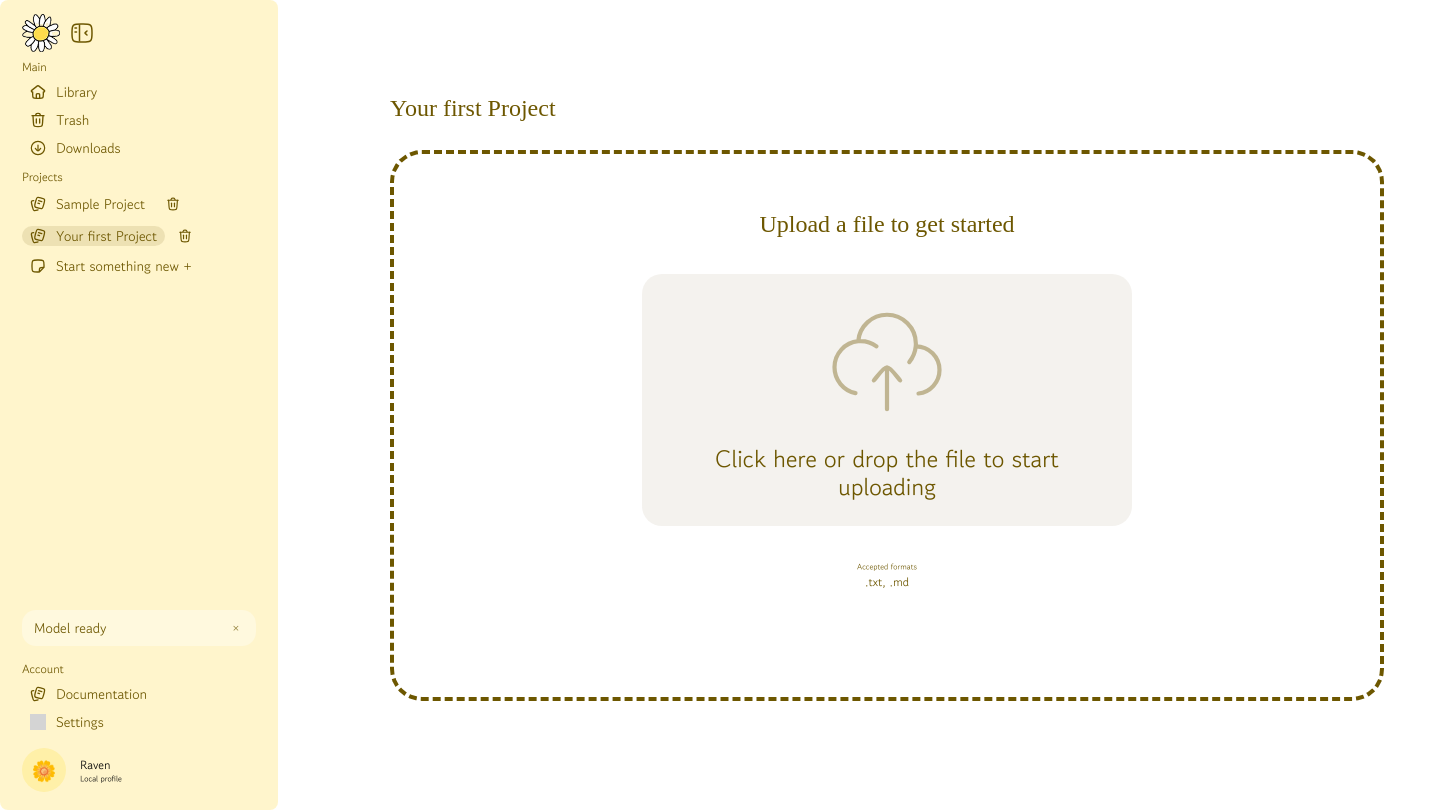
Test: Upload screen › switches to a different project when another project is clicked in the navbar
Expected: the heading "Your first Project" is shown, x1=390 y1=94 x2=556 y2=122
Click the link "Sample Project". click: click(88, 204)
box: x1=22 y1=194 x2=153 y2=214
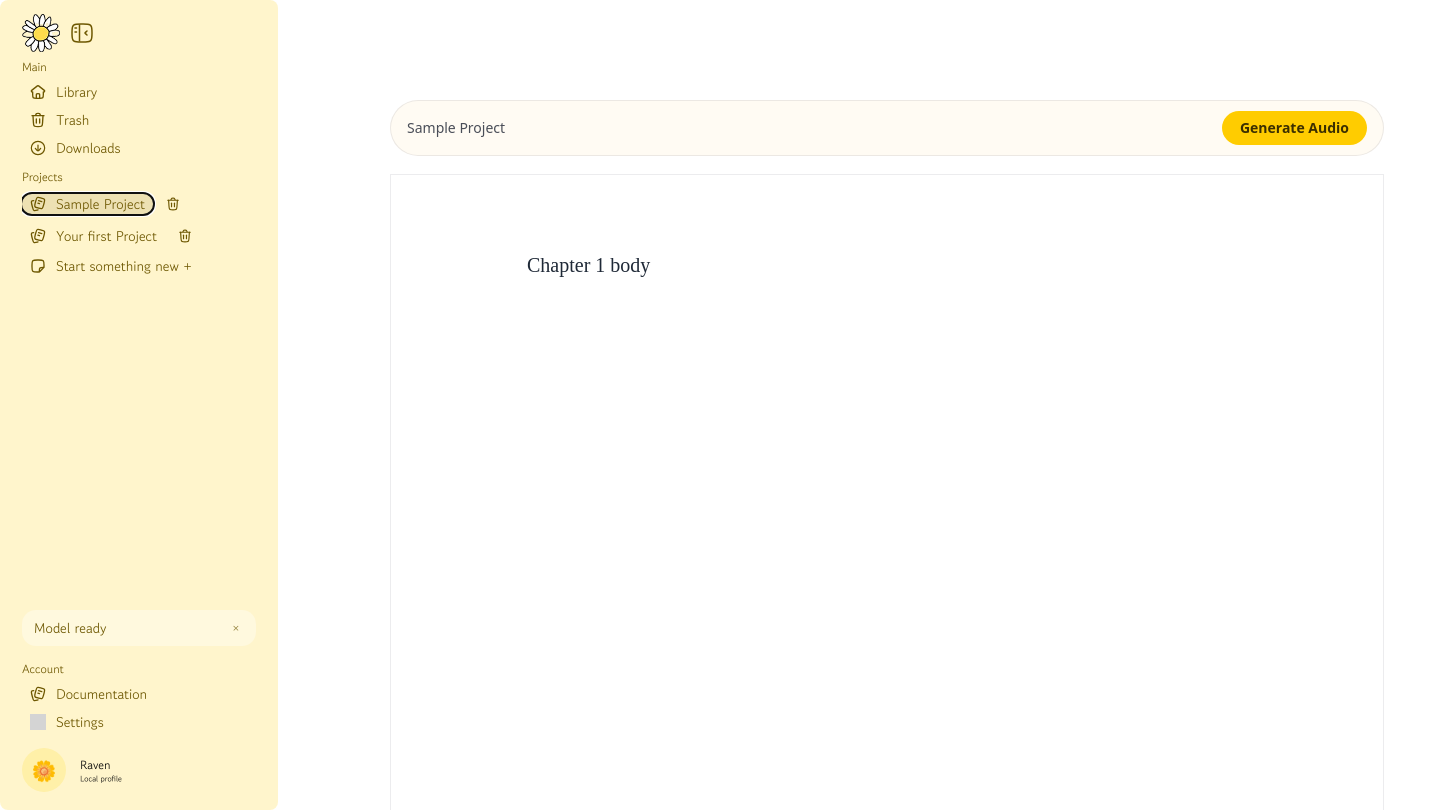
Expected: the 1st text "Sample Project" is shown, x1=407 y1=118 x2=505 y2=137
